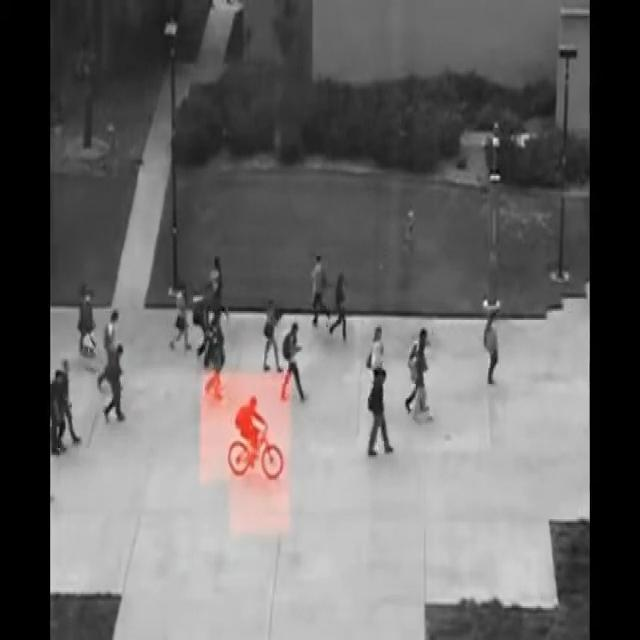anamoly: (210, 393, 315, 515)
